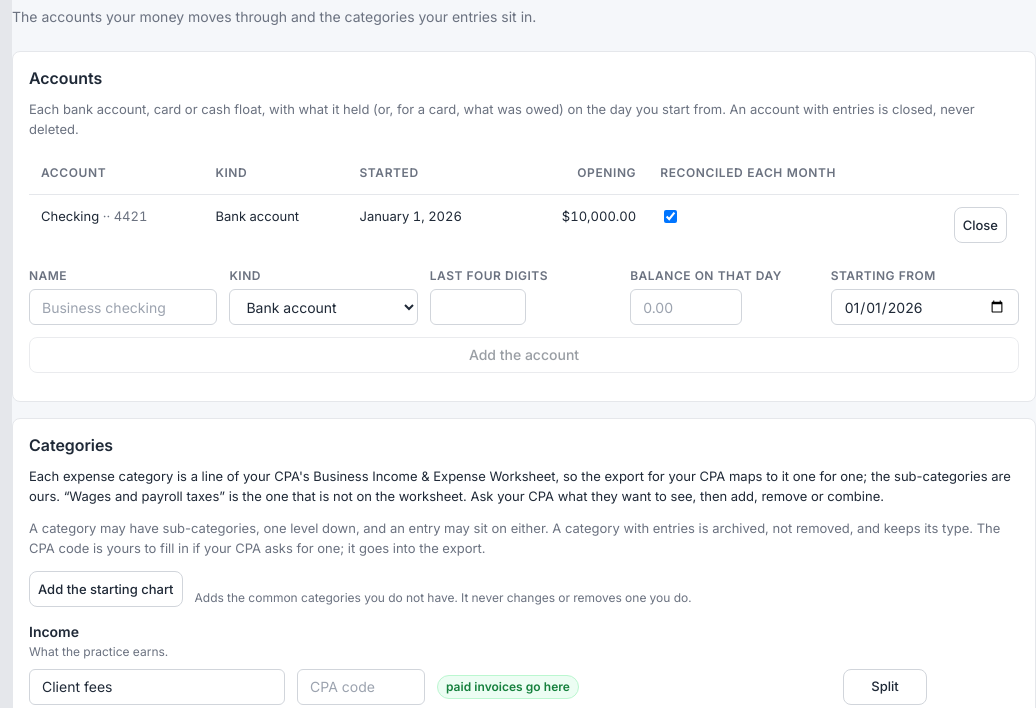
Test: categories in two levels › adds the starting chart only after showing what it would add
The image size is (1036, 708).
Click the button "Add the starting chart" at [106, 589], box [29, 571, 183, 607]
(page scrolled)
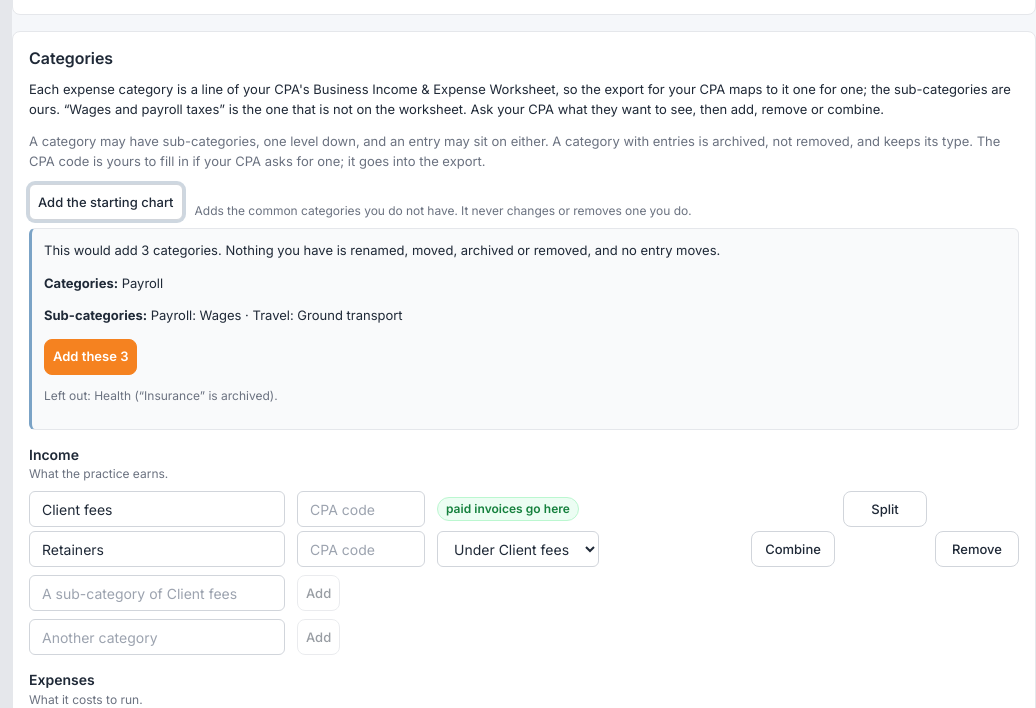
expect the element named "Add the starting chart" shows "Categories: Payroll": met, box [29, 228, 1019, 430]
expect the element named "Add the starting chart" shows "Sub-categories: Payroll: Wages · Travel: Ground transport": met, box [29, 228, 1019, 430]
expect the element named "Add the starting chart" shows "Left out: Health (“Insurance” is archived).": met, box [29, 228, 1019, 430]
Click the button "Add these 3" at [91, 356], box [44, 338, 137, 374]
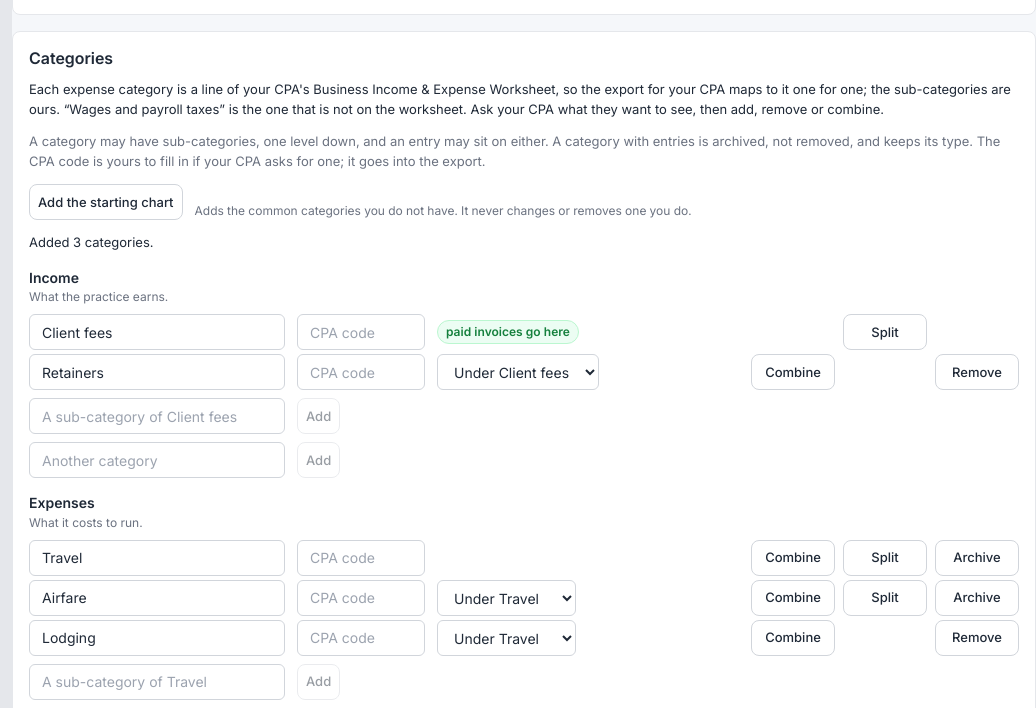
expect the text "Added 3 categories." is shown: met, box [29, 234, 154, 250]
